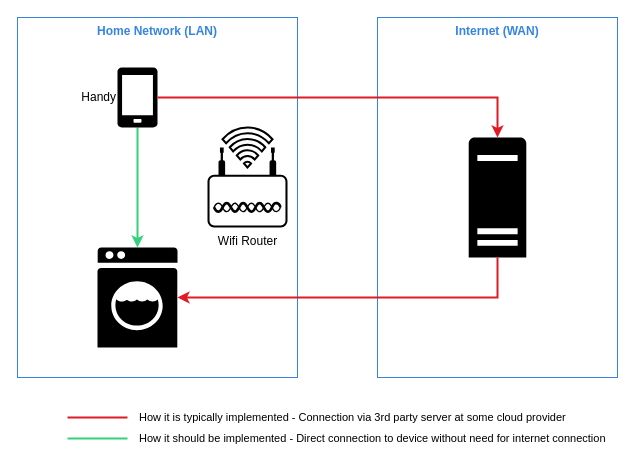
The diagram is 635 pixels wide and 462 high, and some of its shapes have lost their labels. The centre of each missing label's shape, as x and y in pixels:
3rd Party Server: the point at 497,197
Smart Device: the point at 137,297
